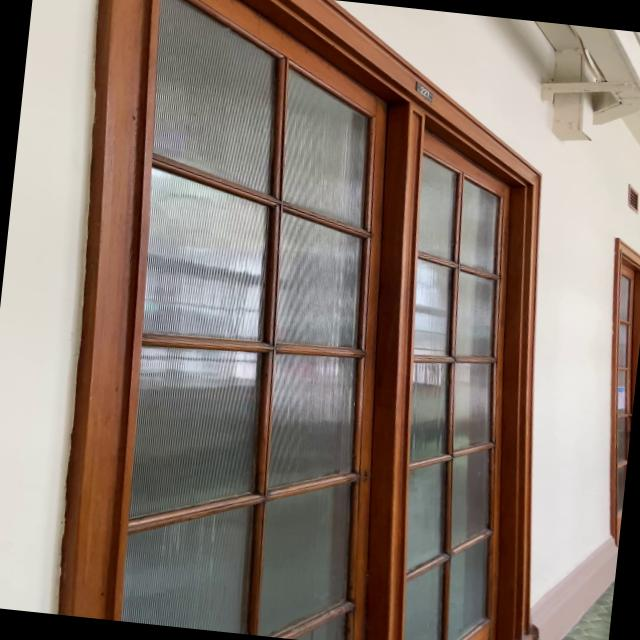room227: (414, 80, 434, 102)
